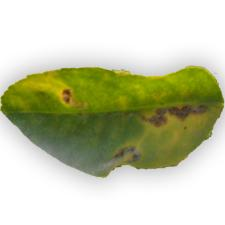Black: (9, 28, 222, 193)
